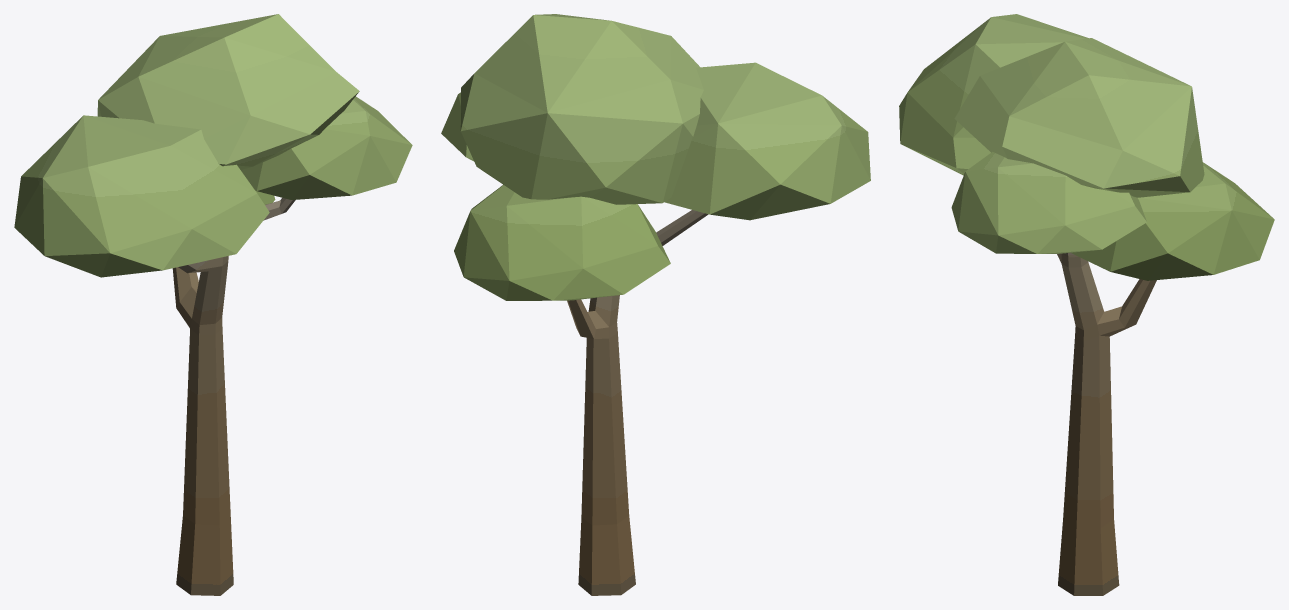
File: Ash.fbx
The picture shows the model from 3 angles, left to right: view 1: azimuth 30°, elevation 25°; view 2: azimuth 150°, elevation 25°; view 3: azimuth 270°, elevation 25°; orthographic projection.
Parts seen in each view (by area): view 1: Ash; view 2: Ash; view 3: Ash.
Part boxes in pixels (bbox=[...]): Ash: bbox=[14, 14, 412, 595]; Ash: bbox=[441, 14, 870, 595]; Ash: bbox=[899, 14, 1274, 595].
Size of the model in its own units: 9.69 by 13.34 by 8.3.
